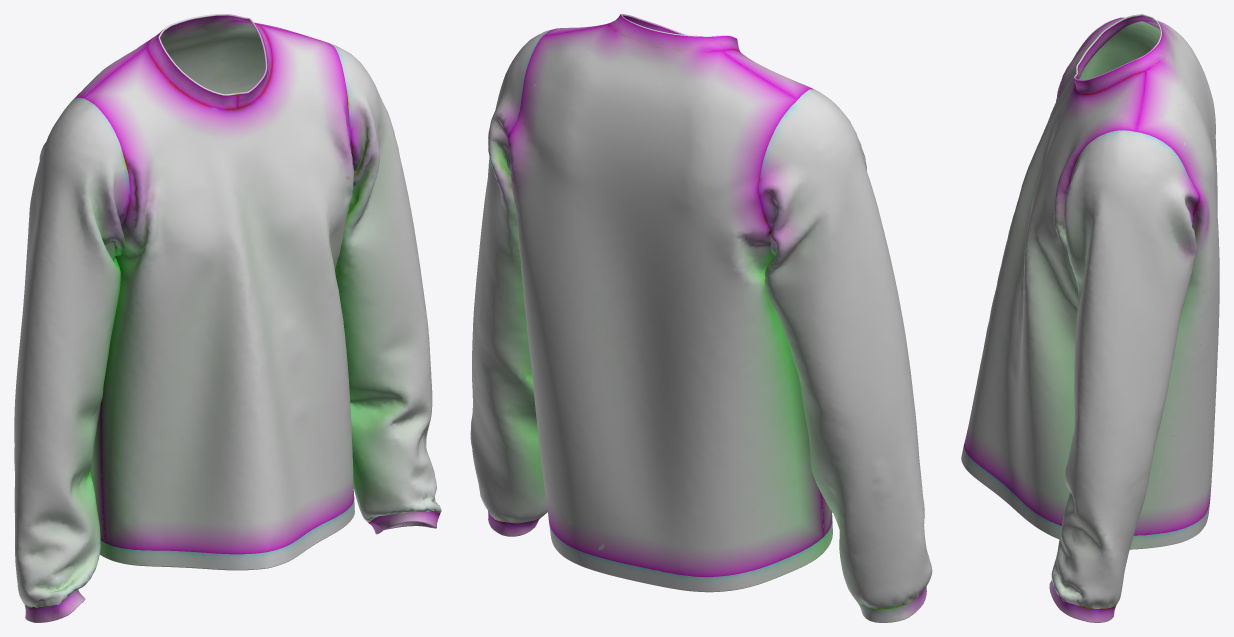
The model's file is long.glb.
3 renders of one model, left to right at view 1: azimuth 30°, elevation 25°; view 2: azimuth 150°, elevation 25°; view 3: azimuth 270°, elevation 25°, orthographic. The views are drawn at different scales.
Visible parts, largest first — view 1: front, sleeve_r, sleeve_l, back, hem, cuffs, collar; view 2: back, sleeve_r, sleeve_l, hem, cuffs, front; view 3: sleeve_l, front, back, hem, sleeve_r, cuffs, collar.
Boxes of the visible parts, x1,y1,x2,y2 form: front: (84, 23, 354, 554); sleeve_r: (14, 97, 130, 607); sleeve_l: (329, 43, 441, 522); back: (74, 16, 315, 542); hem: (100, 499, 354, 570); cuffs: (24, 511, 440, 622); collar: (86, 14, 288, 95); back: (508, 15, 823, 576); sleeve_r: (742, 89, 932, 609); sleeve_l: (470, 30, 550, 523); hem: (549, 515, 832, 592); cuffs: (488, 511, 926, 622); front: (543, 23, 832, 536); sleeve_l: (1051, 130, 1212, 608); front: (964, 17, 1147, 525); back: (1073, 16, 1219, 535); hem: (961, 445, 1210, 549); sleeve_r: (1073, 18, 1160, 79); cuffs: (1049, 580, 1115, 622); collar: (1073, 14, 1197, 129).
Bounding box in the file's own units: 0.619 × 0.7566 × 0.3509.
